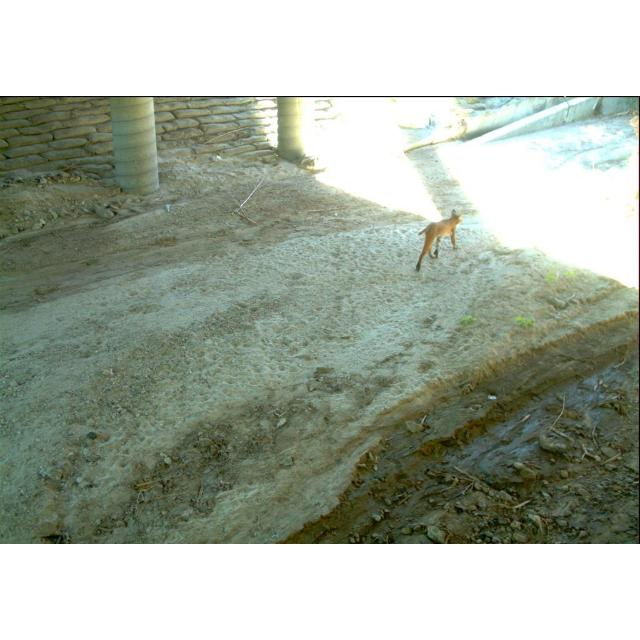animals: (417, 208, 469, 274)
